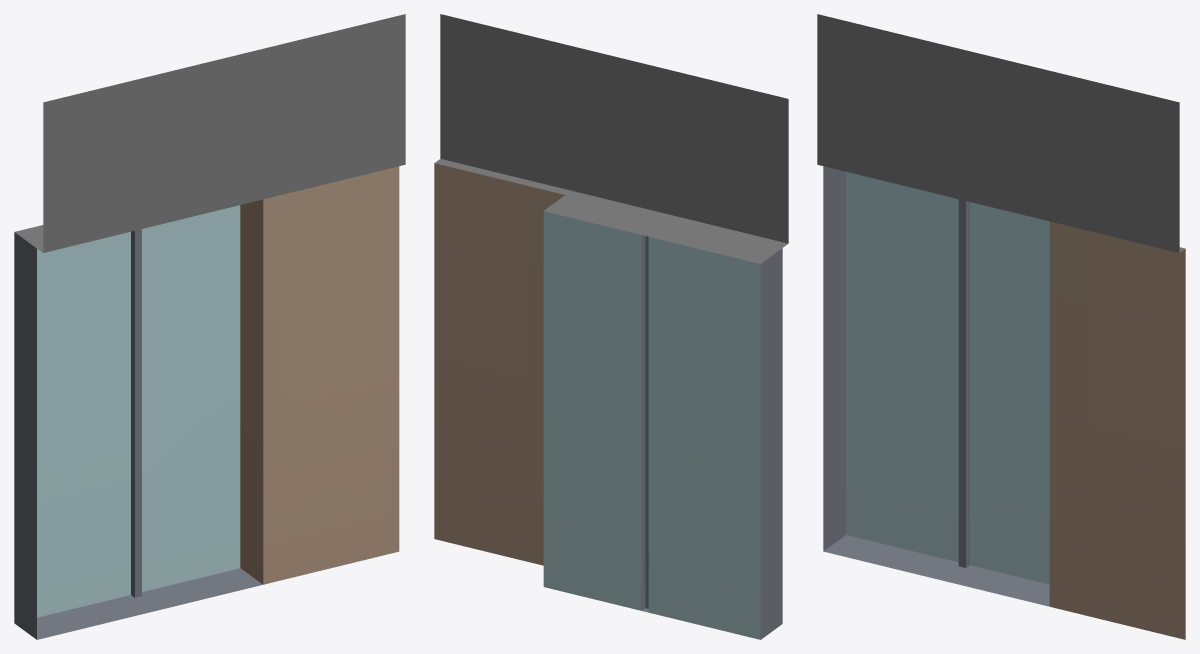
Rendered from Extension windows.fbx.
3 renders of one model, left to right at view 1: azimuth 30°, elevation 25°; view 2: azimuth 150°, elevation 25°; view 3: azimuth 330°, elevation 25°, orthographic. The views are drawn at different scales.
Visible parts, largest first — view 1: Cube.202; view 2: Cube.202; view 3: Cube.202.
Part boxes in pixels (box(x1,y1,x2,y2)): Cube.202: box(14, 14, 405, 639); Cube.202: box(434, 14, 788, 639); Cube.202: box(817, 14, 1185, 639).
Size of the model in its own units: 358 by 511 by 49.46.
